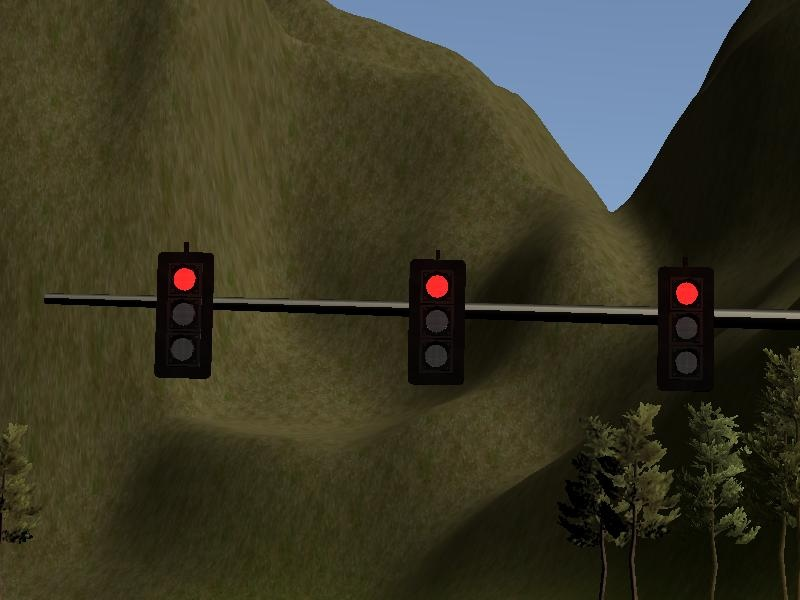red: (651, 259, 721, 402), (403, 250, 469, 390), (150, 246, 218, 381)
